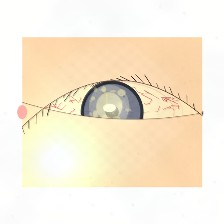corneal_ulcer: (86, 88, 132, 124)
